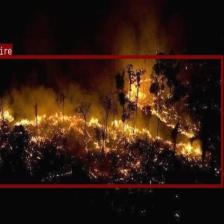fire: (0, 54, 223, 187)
